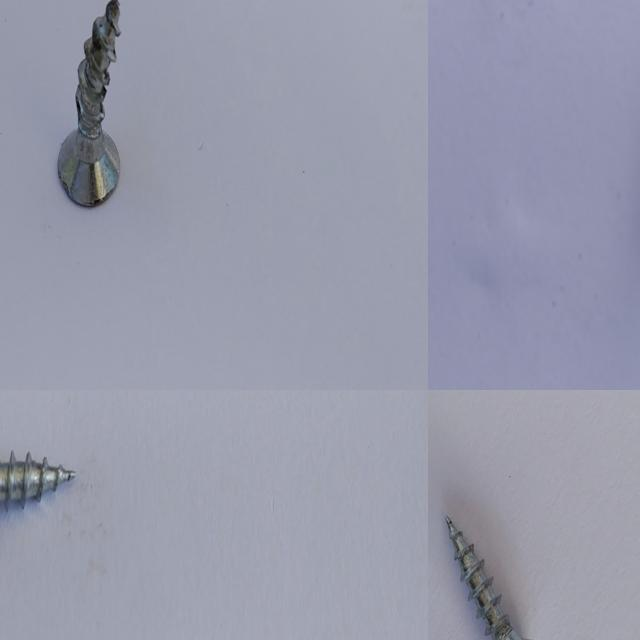Screw: (57, 0, 120, 206), (446, 515, 532, 640), (0, 450, 75, 510)
